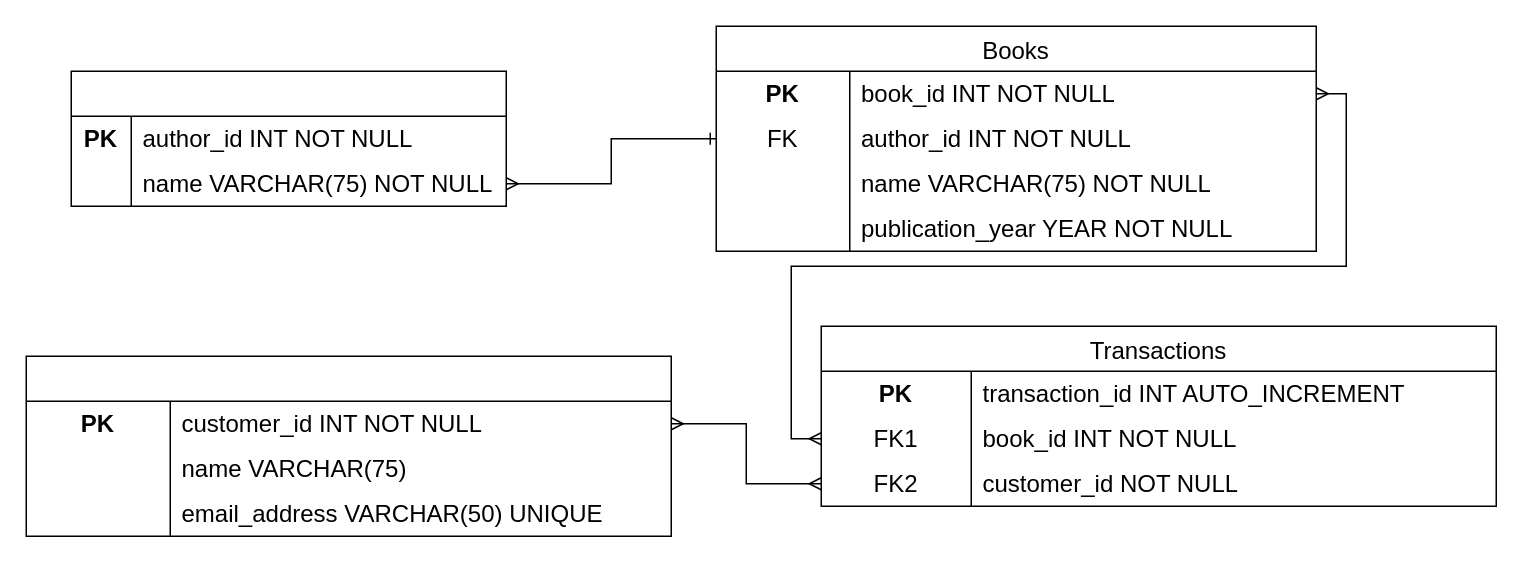
This 1523x563 diagram has some shape labels left out. The shapes that lost their labels are listed below. From the top down, each one's box as (x1, y1, x2, y2) in pixels, then its label:
(70, 70, 506, 206): Authors
(25, 355, 671, 536): Customers
